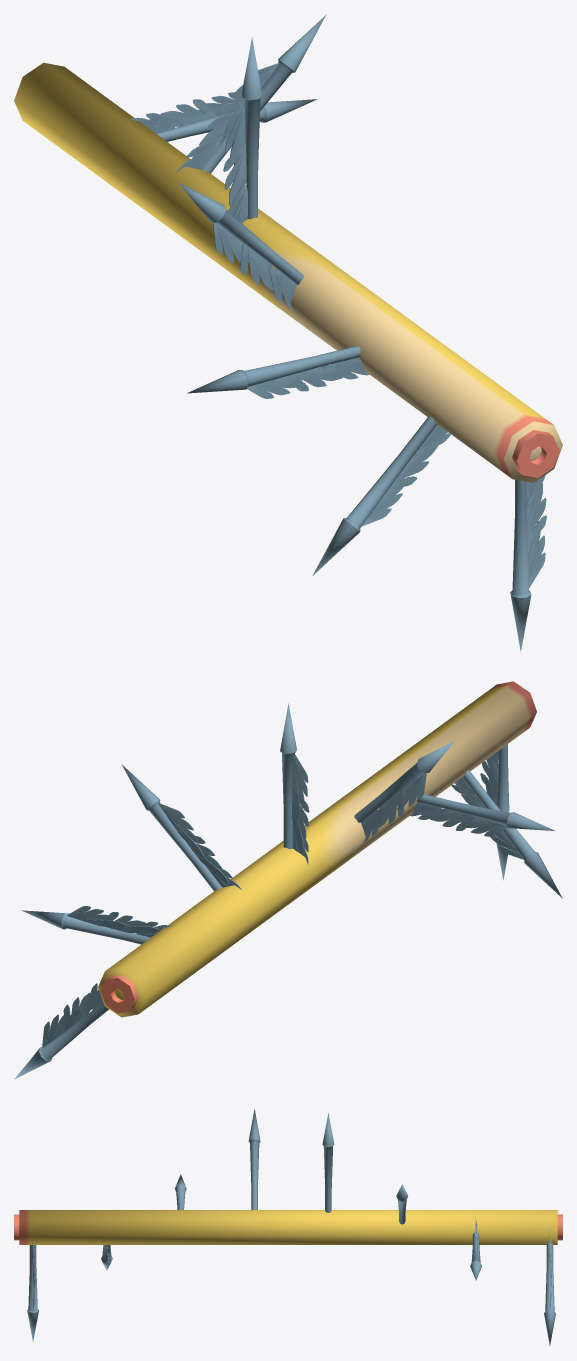
The model's file is spiker long.fbx.
3 renders of one model, top to bottom at view 1: azimuth 30°, elevation 25°; view 2: azimuth 150°, elevation 25°; view 3: azimuth 270°, elevation 25°, orthographic. The views are drawn at different scales.
Visible parts, largest first — view 1: spikes.001; view 2: spikes.001; view 3: spikes.001.
Boxes of the visible parts, x1,y1,x2,y2 form: spikes.001: (14,14,562,652); spikes.001: (14,681,562,1079); spikes.001: (14,1109,562,1345).
Size of the model in its own units: 747 by 747 by 1612.
